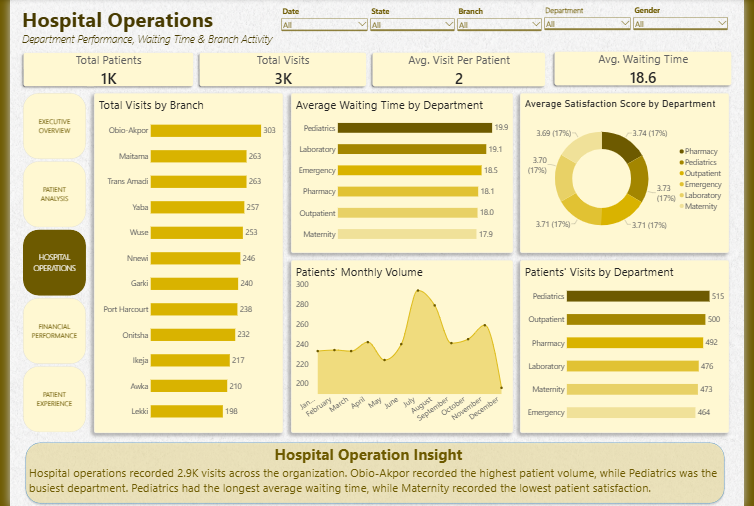

The page's visual inventory and layout, read from the dashboard file:
{"tool":"powerbi","page":{"name":"HOSPITAL OPERATIONS","canvas":[2600,1800],"ordinal":2},"visuals":[{"type":"textbox","box":[43.5,20.1,953.7,174],"z":0},{"type":"cardVisual","fields":{"Data":["Date_Table.Total Visits"]},"box":[655.5,173.6,623.6,152.4],"z":1000},{"type":"cardVisual","fields":{"Data":["Date_Table.Avg. Visit Per Patient"]},"box":[1268.5,173.6,644.9,152.4],"z":2000},{"type":"cardVisual","fields":{"Data":["Date_Table.Avg. Waiting Time"]},"box":[1913.4,170.1,659.1,152.4],"z":3000},{"type":"clusteredBarChart","title":"Patients'' Visits by Department","fields":{"Category":["Patient_Visits.Department"],"Y":["Date_Table.Total Visits"]},"box":[1807.1,924.8,740.6,613],"z":4000},{"type":"clusteredBarChart","title":"Average Waiting Time by Department","fields":{"Category":["Patient_Visits.Department"],"Y":["Date_Table.Avg. Waiting Time"]},"box":[995.7,333.1,786.6,566.9],"z":5000},{"type":"donutChart","title":"Average Satisfaction Score by Department","fields":{"Category":["Patient_Visits.Department"],"Y":["Date_Table.Avg. Satisfaction Score"]},"box":[1807.1,333.1,740.6,566.9],"z":6000},{"type":"clusteredBarChart","fields":{"Category":["Patient_Visits.Branch"],"Y":["Date_Table.Total Visits"]},"box":[297.6,333.1,669.7,1204.7],"z":7000},{"type":"lineChart","title":"Patients'' Monthly Volume","fields":{"Category":["Date_Table.Date.Variation.Date Hierarchy.Month"],"Y":["Date_Table.Total Visits"]},"box":[995.7,924.8,786.6,613],"z":8000},{"type":"cardVisual","fields":{"Data":["Date_Table.Total Patients"]},"box":[31.9,173.6,634.3,152.4],"z":9000},{"type":"pageNavigator","box":[46.1,333.1,223.2,1204.7],"z":10000},{"type":"slicer","fields":{"Values":["Date_Table.Date"]},"box":[956.7,24.8,315.4,113.4],"z":11000},{"type":"slicer","fields":{"Values":["State_Targets.State"]},"box":[1272,24.8,308.3,124],"z":12000},{"type":"slicer","fields":{"Values":["Patient_Visits.Branch"]},"box":[1580.3,24.8,308.3,109.8],"z":13000},{"type":"slicer","fields":{"Values":["Patient_Visits.Department"]},"box":[1888.6,21.3,315.4,113.4],"z":14000},{"type":"slicer","fields":{"Values":["Patient_Visits.Gender"]},"box":[2203.9,21.3,343.7,109.8],"z":15000},{"type":"shape","box":[46.1,1562.6,2494.5,233.9],"z":16001},{"type":"textbox","box":[67.3,1651.2,2448.4,141.7],"z":16002},{"type":"textbox","box":[31.9,1576.8,2476.8,95.7],"z":16003}]}

Visuals, with their boxes on the page's 2600x1800 design canvas (x1, y1, x2, y2). These are canvas units, not pixel positions in the 754x506 screenshot, which may show the page scaled, cropped or inside an application window:
textbox: {"x1": 44, "y1": 20, "x2": 997, "y2": 194}
cardVisual - Date_Table.Total Visits: {"x1": 656, "y1": 174, "x2": 1279, "y2": 326}
cardVisual - Date_Table.Avg. Visit Per Patient: {"x1": 1268, "y1": 174, "x2": 1913, "y2": 326}
cardVisual - Date_Table.Avg. Waiting Time: {"x1": 1913, "y1": 170, "x2": 2572, "y2": 322}
"Patients'' Visits by Department" clusteredBarChart: {"x1": 1807, "y1": 925, "x2": 2548, "y2": 1538}
"Average Waiting Time by Department" clusteredBarChart: {"x1": 996, "y1": 333, "x2": 1782, "y2": 900}
"Average Satisfaction Score by Department" donutChart: {"x1": 1807, "y1": 333, "x2": 2548, "y2": 900}
clusteredBarChart - Patient_Visits.Branch x Date_Table.Total Visits: {"x1": 298, "y1": 333, "x2": 967, "y2": 1538}
"Patients'' Monthly Volume" lineChart: {"x1": 996, "y1": 925, "x2": 1782, "y2": 1538}
cardVisual - Date_Table.Total Patients: {"x1": 32, "y1": 174, "x2": 666, "y2": 326}
pageNavigator: {"x1": 46, "y1": 333, "x2": 269, "y2": 1538}
slicer - Date_Table.Date: {"x1": 957, "y1": 25, "x2": 1272, "y2": 138}
slicer - State_Targets.State: {"x1": 1272, "y1": 25, "x2": 1580, "y2": 149}
slicer - Patient_Visits.Branch: {"x1": 1580, "y1": 25, "x2": 1889, "y2": 135}
slicer - Patient_Visits.Department: {"x1": 1889, "y1": 21, "x2": 2204, "y2": 135}
slicer - Patient_Visits.Gender: {"x1": 2204, "y1": 21, "x2": 2548, "y2": 131}
shape: {"x1": 46, "y1": 1563, "x2": 2541, "y2": 1796}
textbox: {"x1": 67, "y1": 1651, "x2": 2516, "y2": 1793}
textbox: {"x1": 32, "y1": 1577, "x2": 2509, "y2": 1672}
